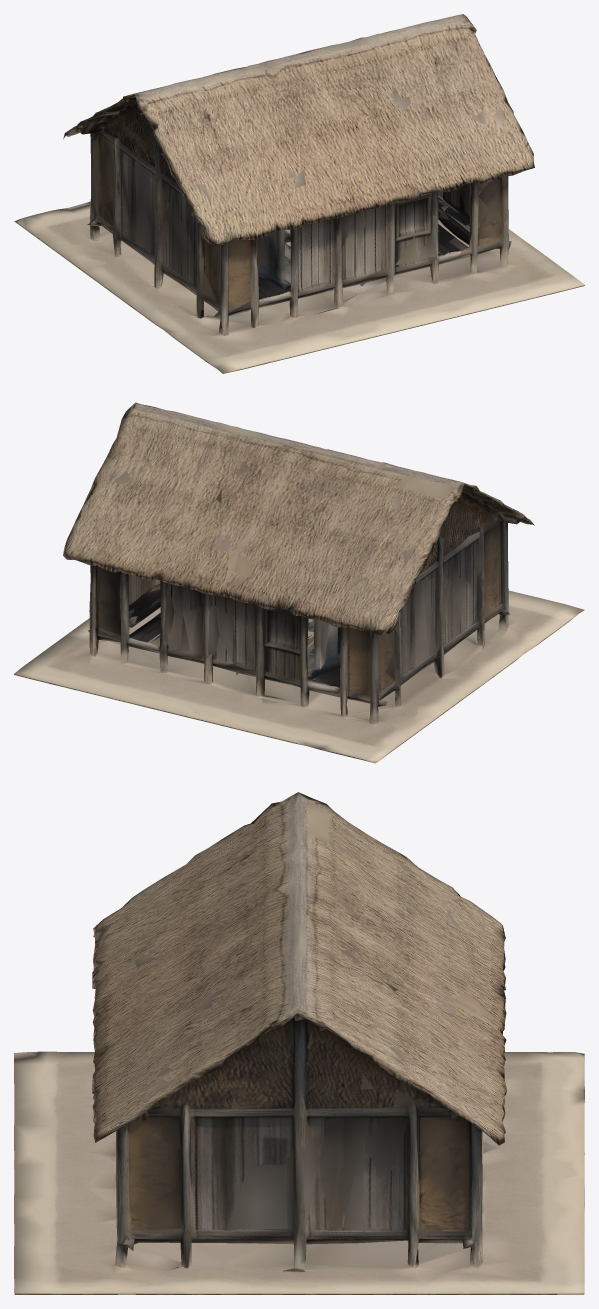
Rendered from thatched_hut_on_stilts.glb.
The picture shows the model from 3 angles, top to bottom: view 1: azimuth 30°, elevation 25°; view 2: azimuth 150°, elevation 25°; view 3: azimuth 270°, elevation 25°; orthographic projection. The views are drawn at different scales.
Parts seen in each view (by area): view 1: Object_5; view 2: Object_5; view 3: Object_5.
Boxes of the visible parts, x1,y1,x2,y2 form: Object_5: [14, 14, 584, 373]; Object_5: [14, 402, 584, 763]; Object_5: [14, 792, 584, 1294].
Size of the model in its own units: 1.91 by 1.01 by 1.91.
Materials: 1 (1 with a texture image).
